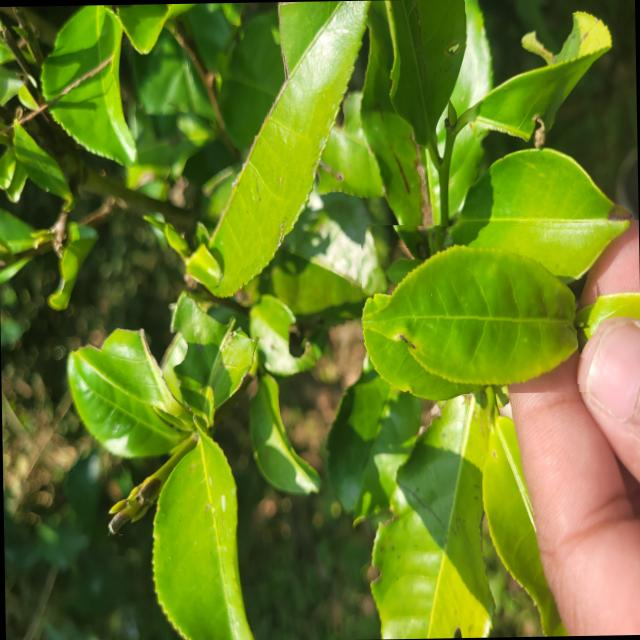Catagory A(1-2 days): (360, 219, 602, 394)
